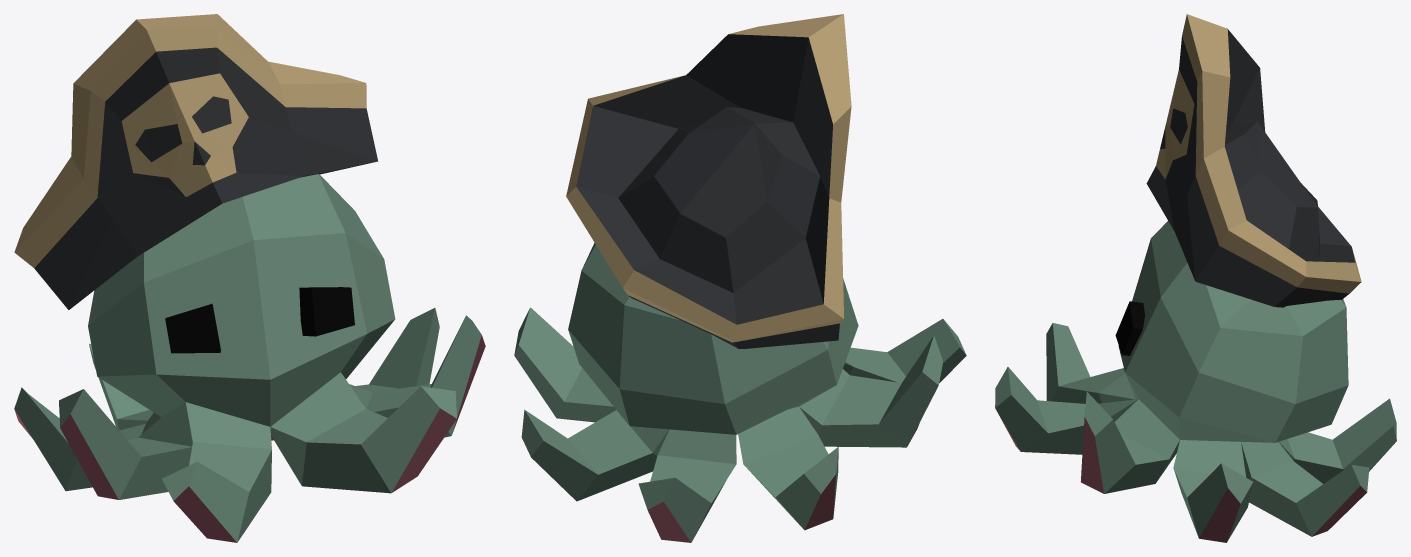
The model's file is SM_Prop_Pet_SquidHat_01.fbx.
3 renders of one model, left to right at view 1: azimuth 30°, elevation 25°; view 2: azimuth 150°, elevation 25°; view 3: azimuth 270°, elevation 25°, orthographic. The views are drawn at different scales.
Parts seen in each view (by area): view 1: SM_Prop_Pet_SquidHat_01; view 2: SM_Prop_Pet_SquidHat_01; view 3: SM_Prop_Pet_SquidHat_01.
Boxes of the visible parts, x1,y1,x2,y2 form: SM_Prop_Pet_SquidHat_01: [14, 14, 485, 542]; SM_Prop_Pet_SquidHat_01: [514, 14, 966, 542]; SM_Prop_Pet_SquidHat_01: [995, 14, 1396, 542].
Size of the model in its own units: 21.19 by 25 by 20.75.
